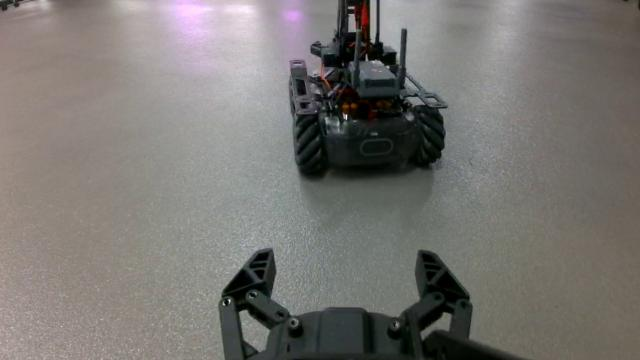robot: (287, 0, 449, 179)
